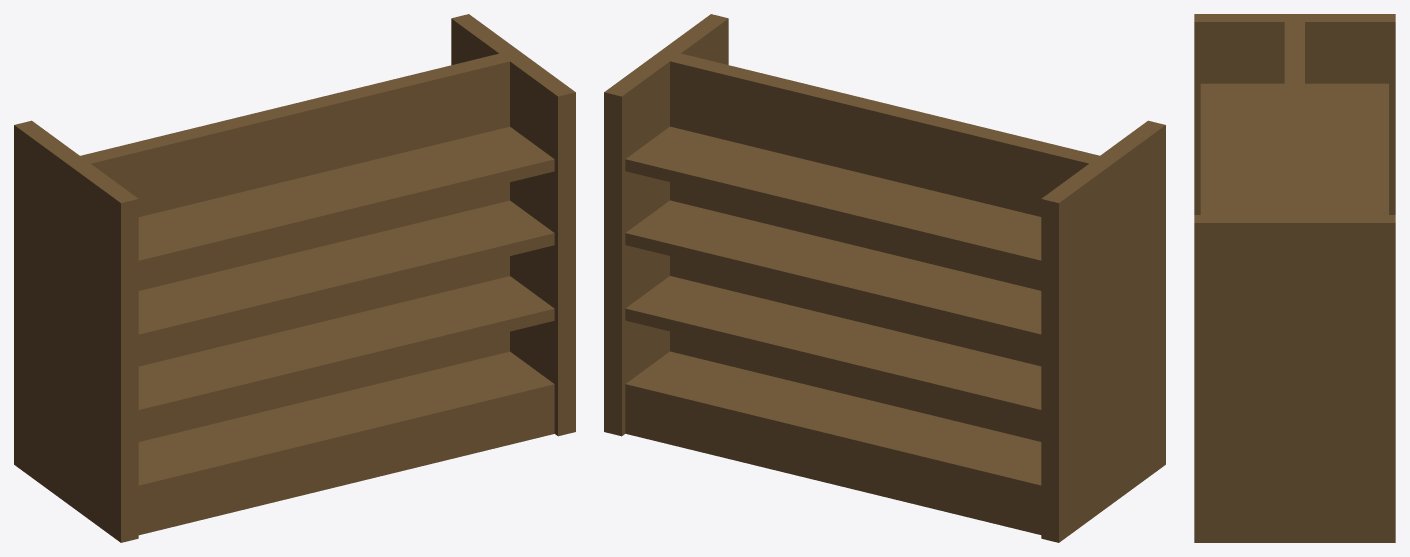
File: Ma_Shelves_2.fbx
The picture shows the model from 3 angles, left to right: view 1: azimuth 30°, elevation 25°; view 2: azimuth 150°, elevation 25°; view 3: azimuth 270°, elevation 25°; orthographic projection. The views are drawn at different scales.
Visible parts, largest first — view 1: Ma_Shelves_2; view 2: Ma_Shelves_2; view 3: Ma_Shelves_2.
Boxes of the visible parts, x1,y1,x2,y2 form: Ma_Shelves_2: (14,14,575,542); Ma_Shelves_2: (604,14,1165,542); Ma_Shelves_2: (1194,14,1395,542).
Size of the model in its own units: 1893 by 771 by 1351.
